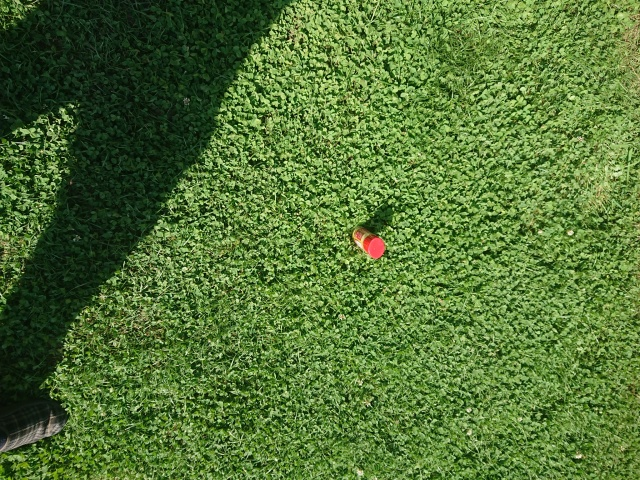Kotanyi Curry Spices Mix 70g: (350, 222, 387, 262)
